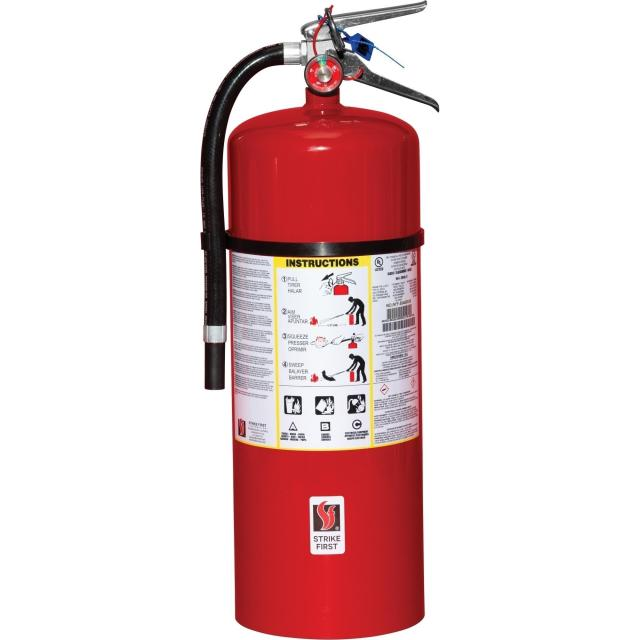fire_extinguisher: (186, 0, 442, 639)
